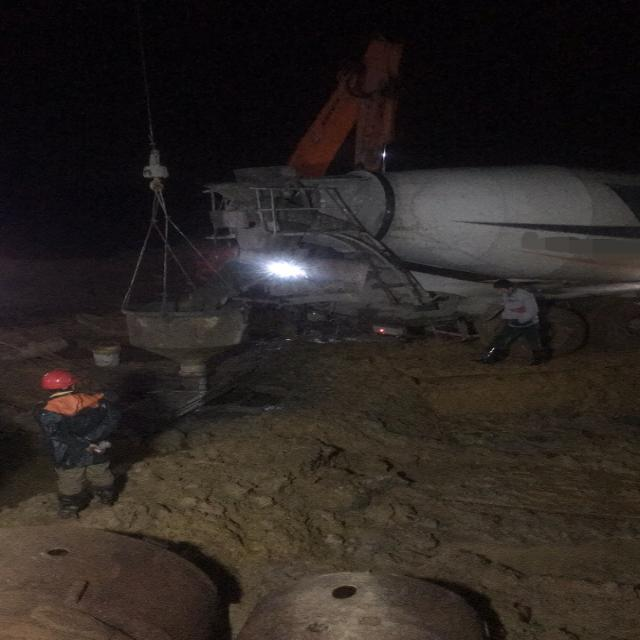excavator: (287, 41, 409, 177)
